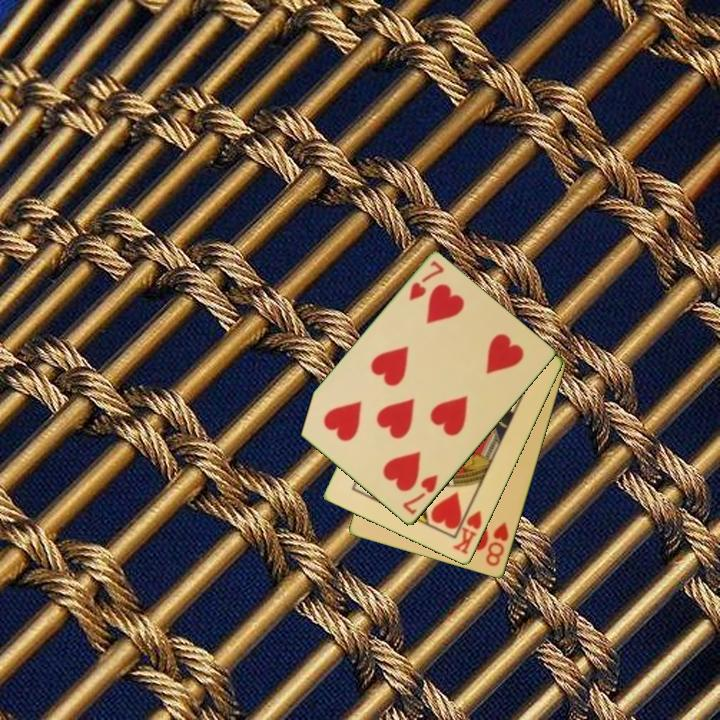7h: (399, 471, 441, 518), (406, 257, 447, 304)
8h: (482, 519, 512, 570)
Kh: (449, 500, 485, 558)
